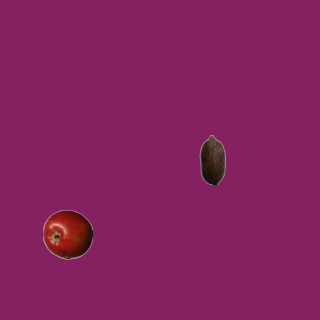Apple Braeburn: (42, 209, 92, 259)
Nut Pecan: (187, 134, 237, 184)
